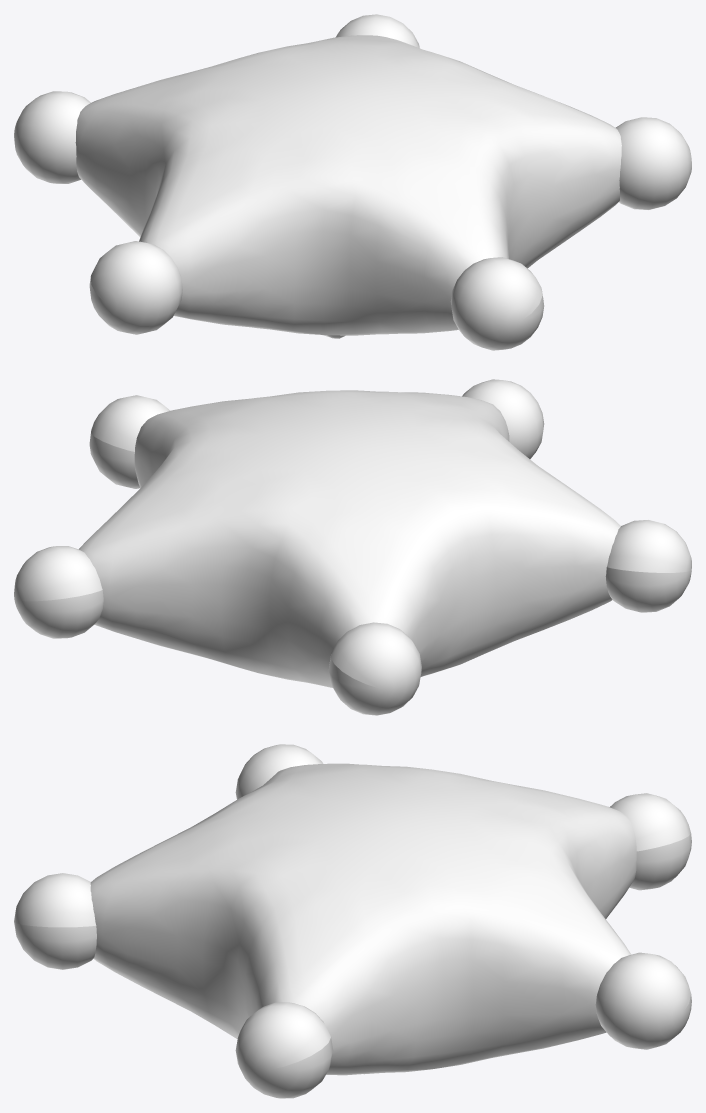
File: GrandStar.obj
3 renders of one model, top to bottom at view 1: azimuth 30°, elevation 25°; view 2: azimuth 150°, elevation 25°; view 3: azimuth 270°, elevation 25°, orthographic. The views are drawn at different scales.
Parts seen in each view (by area): view 1: n1b0; view 2: n1b0; view 3: n1b0.
Part boxes in pixels (x1,y1,x2,y2): n1b0: [14, 14, 691, 350]; n1b0: [14, 379, 691, 715]; n1b0: [14, 744, 691, 1098].
Bounding box in the file's own units: 338 × 120 × 324.
2 materials, 2 textured.
